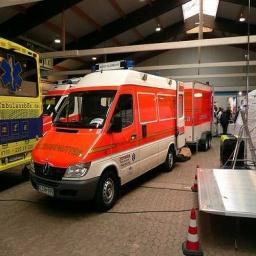Ambulance: (30, 63, 184, 210), (43, 78, 80, 134), (184, 81, 213, 150)
